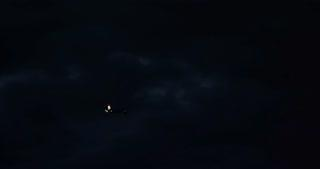Plane: (96, 100, 122, 116)
